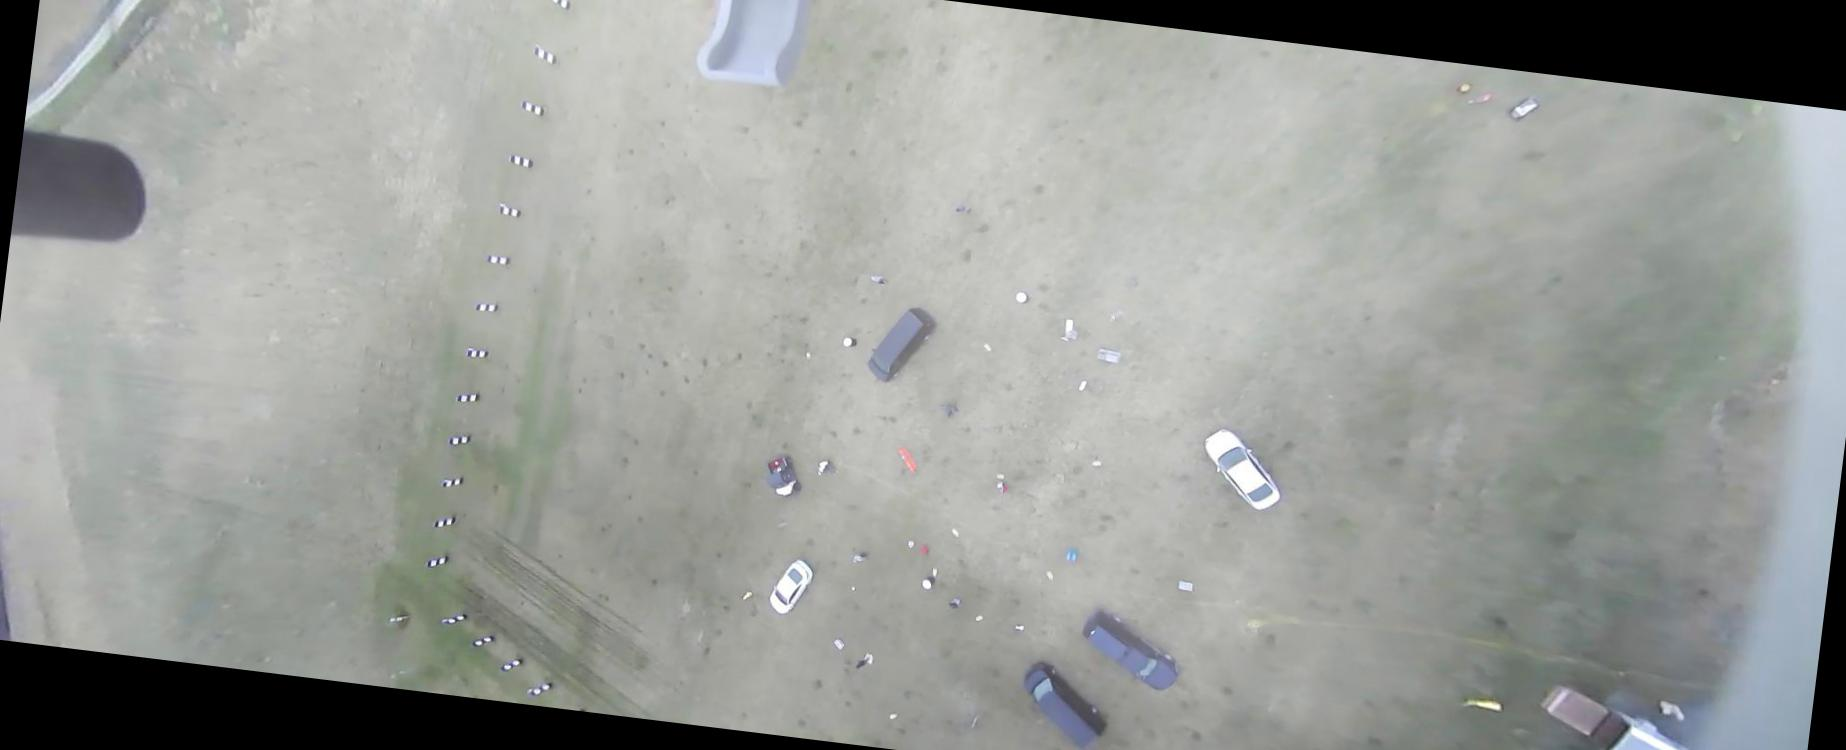vehicle: (1076, 608, 1186, 692), (1016, 660, 1115, 749), (1198, 426, 1288, 512), (865, 300, 938, 386), (768, 554, 816, 617), (762, 451, 806, 498)
